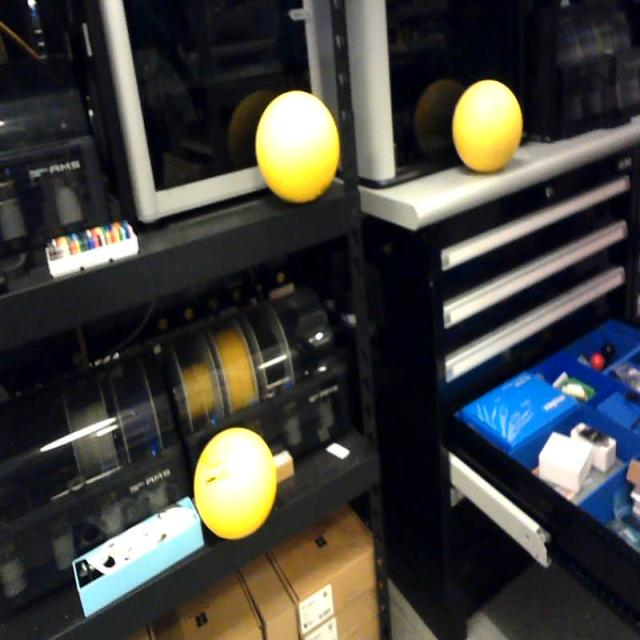Fuel: (255, 90, 340, 203), (193, 426, 276, 539), (452, 79, 523, 174)
